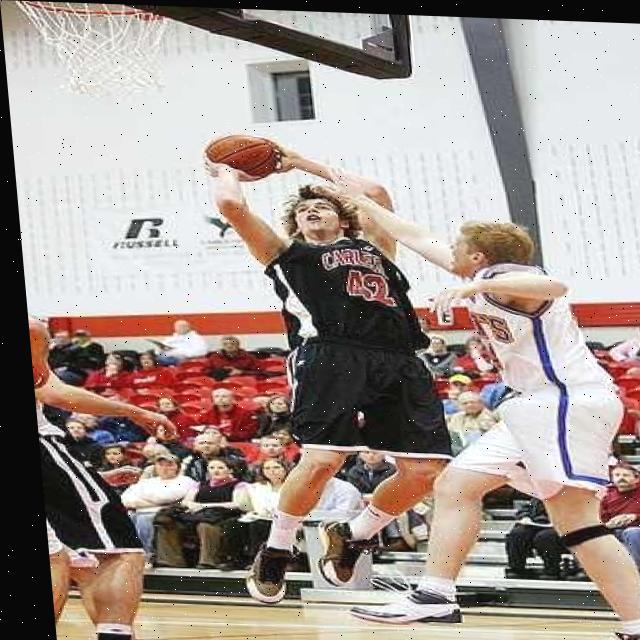basketball: (201, 130, 281, 181)
hoop: (13, 0, 178, 103)
